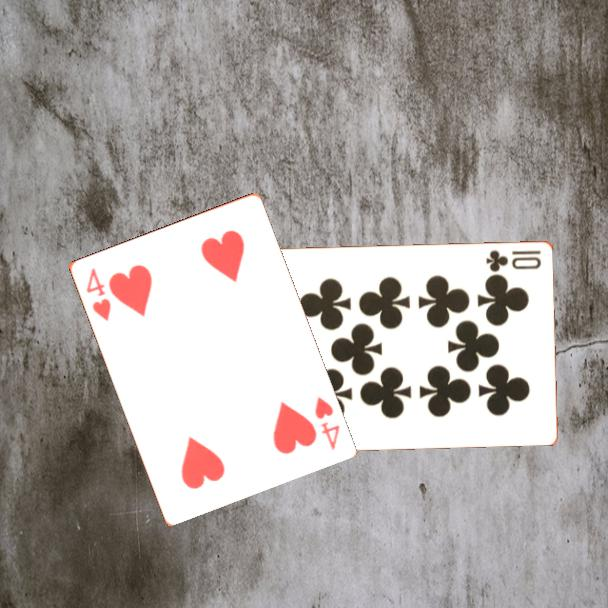c10: (483, 246, 544, 274)
h04: (82, 264, 113, 324), (311, 393, 342, 453)
